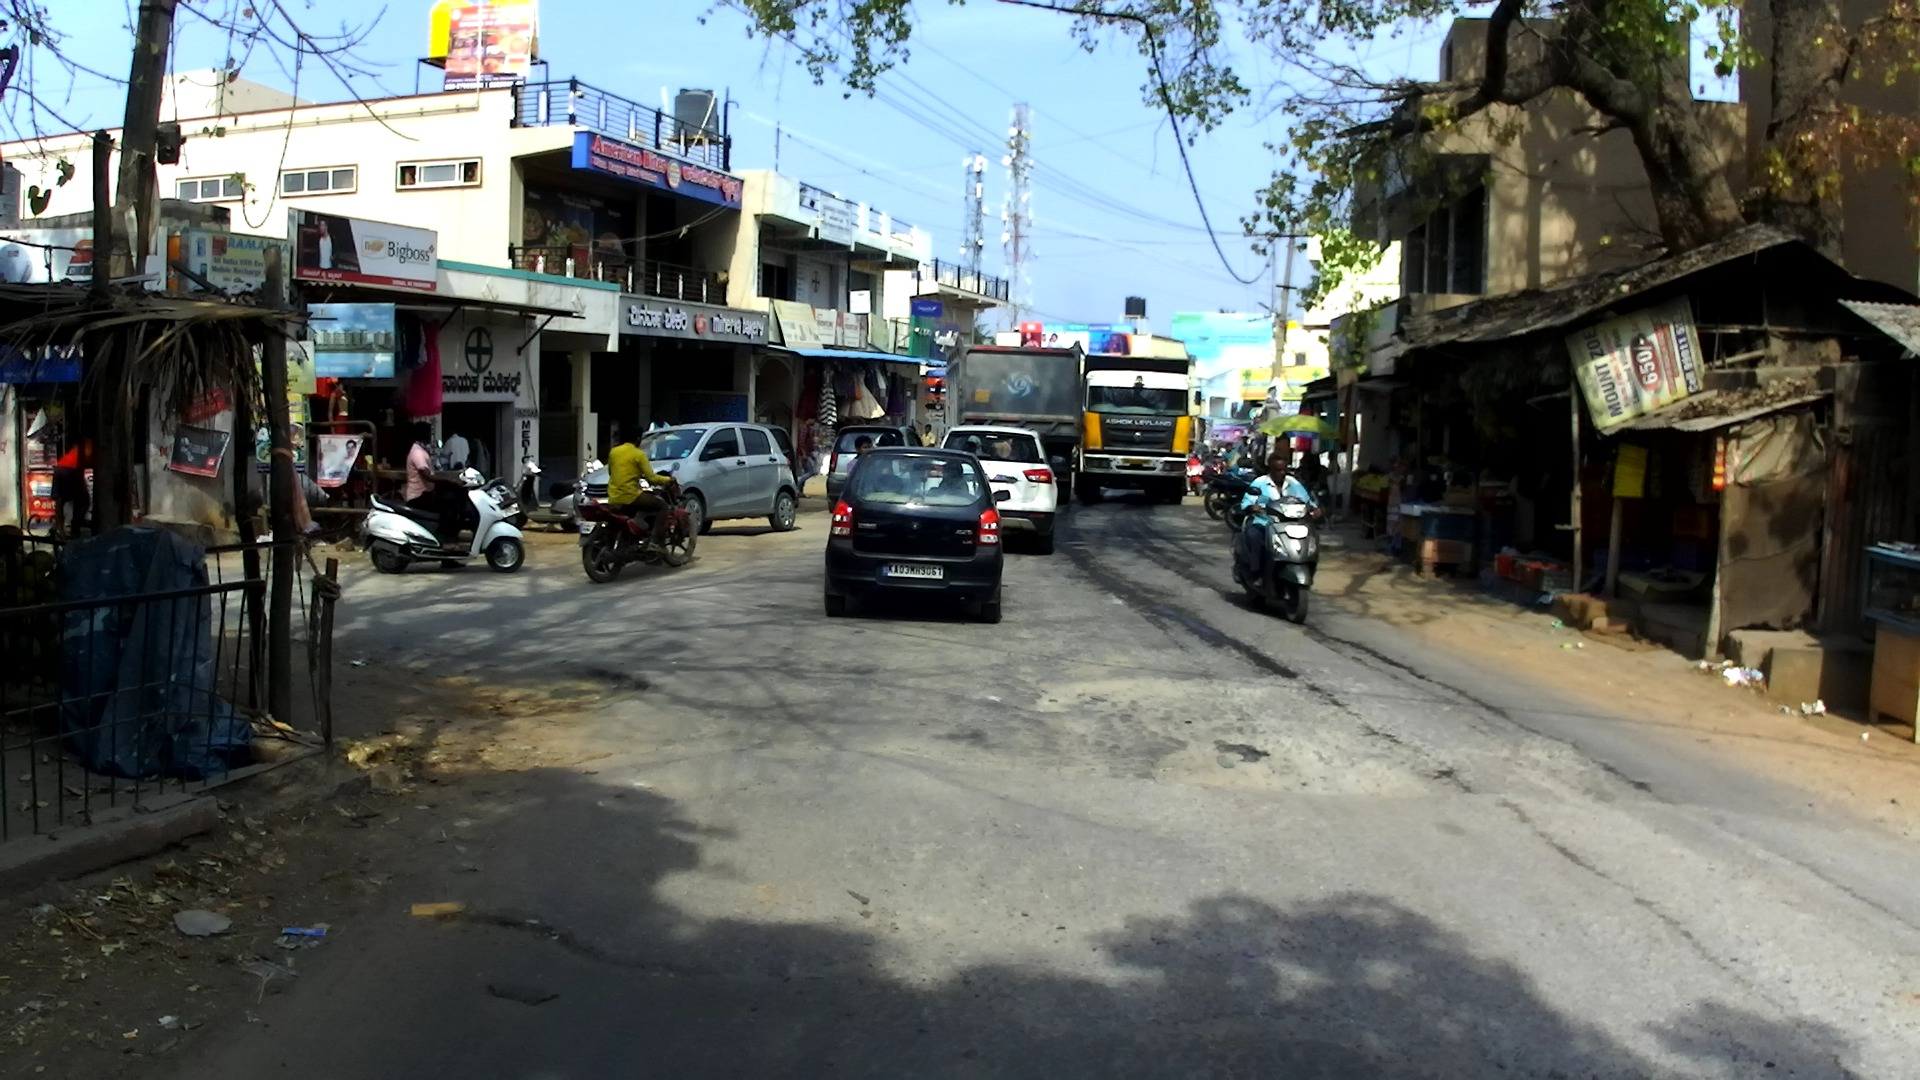car: (825, 445, 1011, 623), (574, 422, 798, 535), (941, 426, 1066, 557), (826, 425, 924, 512), (746, 421, 799, 490)
motorcycle: (362, 461, 524, 573), (579, 461, 698, 582), (1232, 484, 1324, 624), (512, 439, 583, 532), (1200, 471, 1265, 520), (480, 477, 525, 533), (1222, 481, 1259, 532), (578, 442, 600, 475), (1200, 455, 1224, 483), (1187, 456, 1203, 497)
person: (50, 433, 98, 541), (797, 414, 820, 497), (440, 428, 469, 474), (843, 435, 872, 480), (469, 429, 491, 483), (1219, 441, 1240, 477), (1326, 450, 1340, 507), (920, 425, 937, 450), (1237, 434, 1252, 461), (874, 432, 894, 450)
rider: (1241, 453, 1323, 587), (406, 421, 469, 568), (608, 426, 671, 555), (1195, 436, 1208, 458), (1188, 439, 1197, 463)
truck: (944, 341, 1084, 504), (1073, 353, 1190, 505)
vehicle fallback: (1351, 476, 1391, 538)
